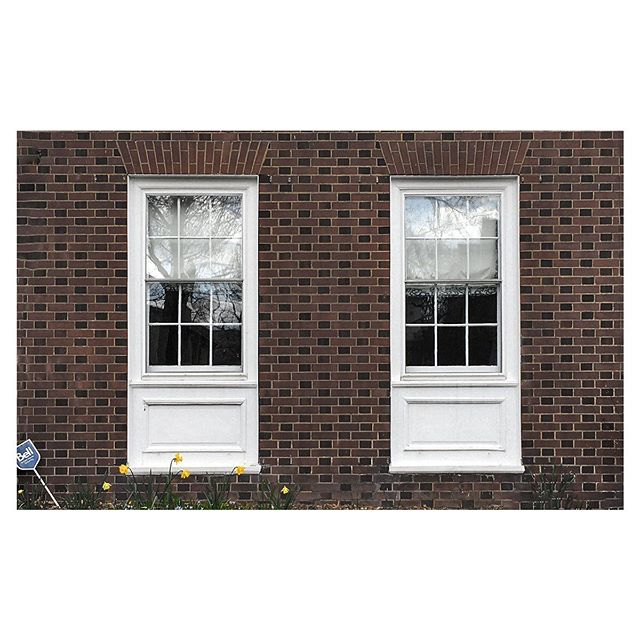window: (398, 173, 522, 466), (133, 173, 257, 466)
